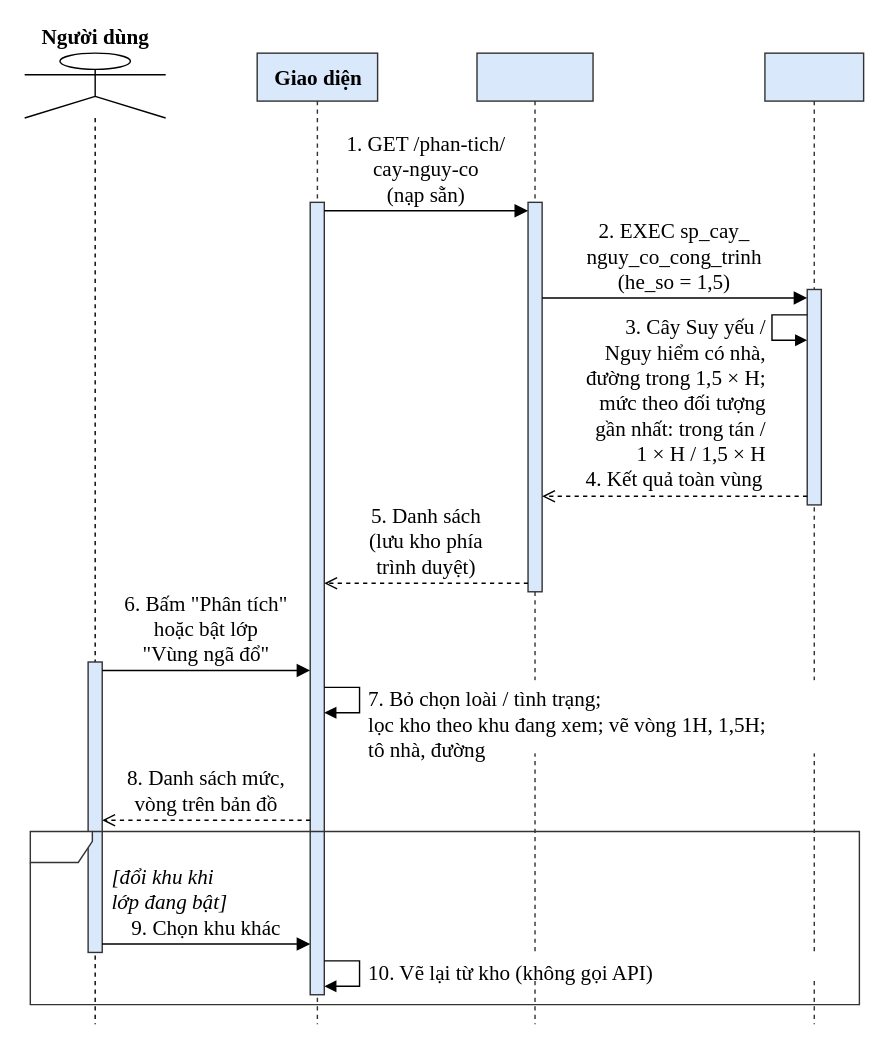
Image size: 888x1050. Some labels were removed from this diagram. Each missing label, with the box of its shape:
BackEnd: (476, 52, 593, 1024)
CSDL: (764, 52, 864, 1024)
opt: (29, 830, 859, 1005)
